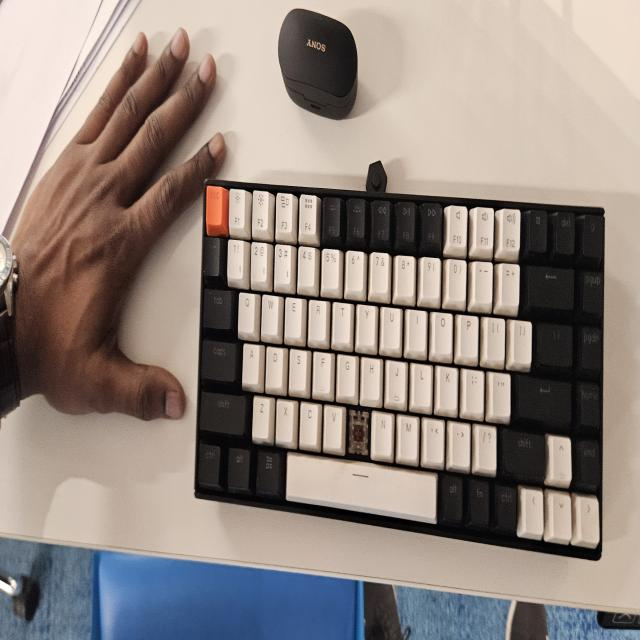C: (349, 409, 367, 458)
